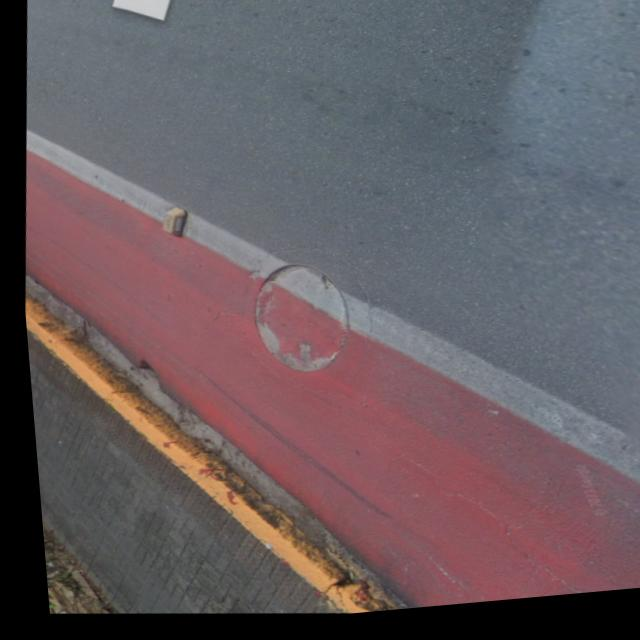Bueiro: (229, 252, 361, 387)
